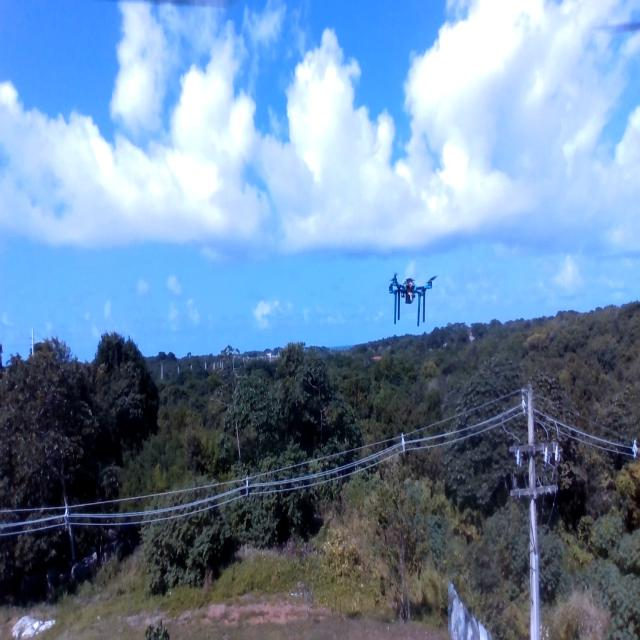-uav-: (381, 256, 441, 333)
